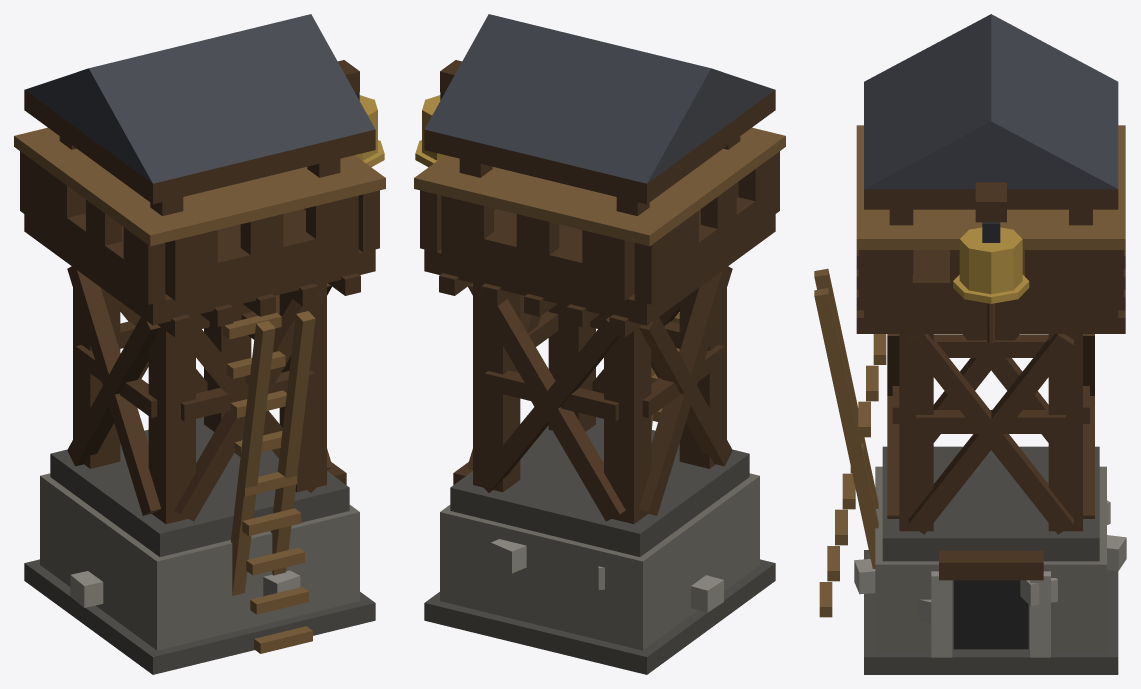
Rendered from watchtower_small.glb.
3 views of the same model, side by side, from view 1: azimuth 30°, elevation 25°; view 2: azimuth 150°, elevation 25°; view 3: azimuth 270°, elevation 25° (orthographic).
Visible parts, largest first — view 1: timber, roof_slate, timber_light, stone, stone_dark, stone_light, brass; view 2: timber, roof_slate, stone, stone_dark, timber_light, stone_light, brass; view 3: timber, roof_slate, stone_dark, timber_light, stone, stone_light, soot, brass.
Part boxes in pixels (x1=…): timber: x1=20, y1=60, x2=379, y2=524; roof_slate: x1=25, y1=14, x2=375, y2=183; timber_light: x1=14, y1=127, x2=385, y2=653; stone: x1=40, y1=473, x2=359, y2=650; stone_dark: x1=24, y1=417, x2=375, y2=674; stone_light: x1=70, y1=570, x2=300, y2=607; brass: x1=355, y1=95, x2=384, y2=167; timber: x1=420, y1=60, x2=779, y2=524; roof_slate: x1=424, y1=14, x2=774, y2=183; stone: x1=440, y1=473, x2=759, y2=650; stone_dark: x1=424, y1=417, x2=775, y2=674; timber_light: x1=414, y1=127, x2=785, y2=429; stone_light: x1=490, y1=539, x2=723, y2=612; brass: x1=415, y1=95, x2=444, y2=167; timber: x1=856, y1=182, x2=1125, y2=580; roof_slate: x1=864, y1=14, x2=1118, y2=189; stone_dark: x1=864, y1=446, x2=1118, y2=674; timber_light: x1=814, y1=125, x2=1125, y2=617; stone: x1=875, y1=466, x2=1106, y2=652; stone_light: x1=854, y1=500, x2=1126, y2=657; soot: x1=953, y1=580, x2=1028, y2=649; brass: x1=953, y1=227, x2=1029, y2=303.
Bounding box in the file's own units: 45.93 × 81.88 × 41.76.
